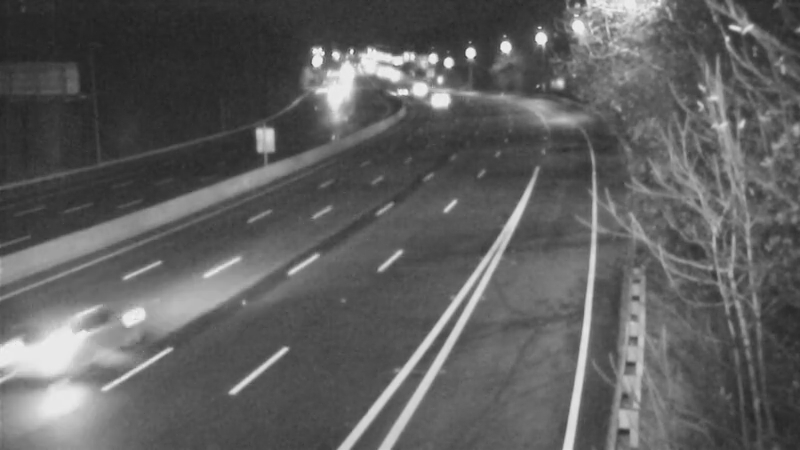vehicle: (1, 299, 105, 409), (400, 63, 450, 113), (376, 70, 426, 120), (413, 74, 463, 124)
